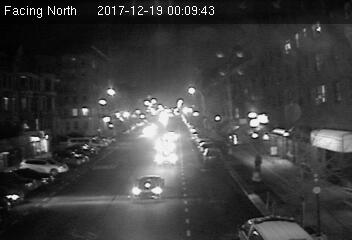car: (130, 176, 168, 204)
police: (235, 212, 315, 240)
